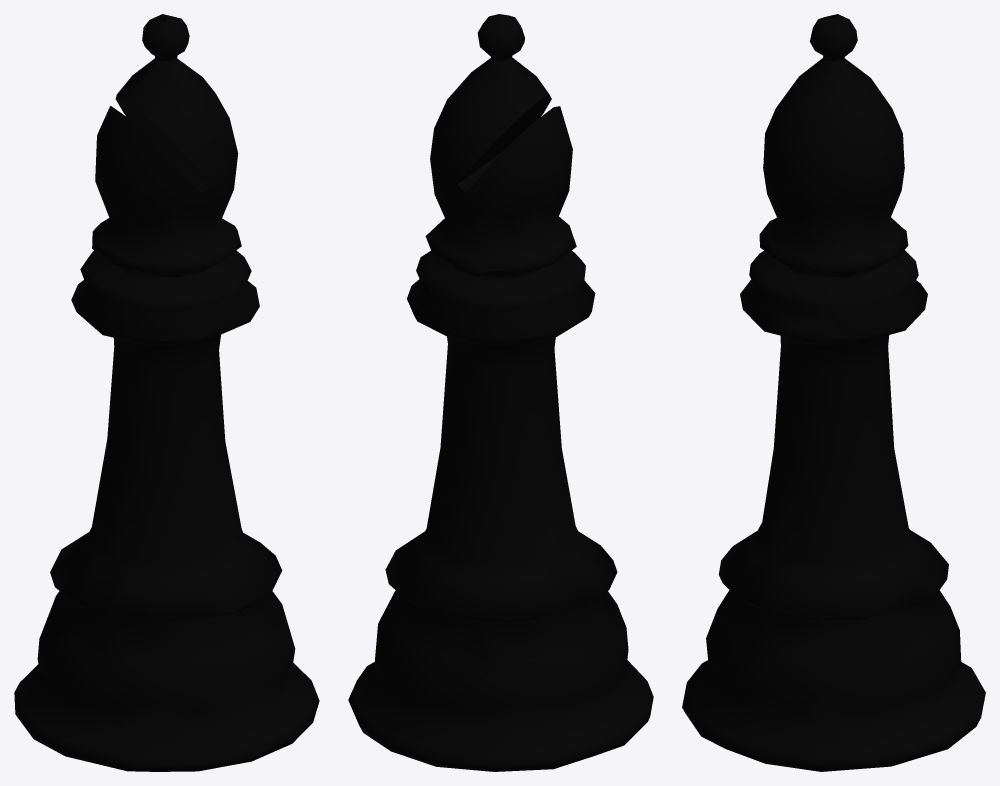
Rendered from ChessBishop.fbx.
3 views of the same model, side by side, from view 1: azimuth 30°, elevation 25°; view 2: azimuth 150°, elevation 25°; view 3: azimuth 270°, elevation 25° (orthographic).
Parts seen in each view (by area): view 1: Bishop; view 2: Bishop; view 3: Bishop.
Part boxes in pixels (x1,y1,x2,y2): Bishop: (14,14,319,771); Bishop: (348,14,653,771); Bishop: (682,14,985,771).
Size of the model in its own units: 121 by 304 by 121.
Materials: 1 (1 with a texture image).
